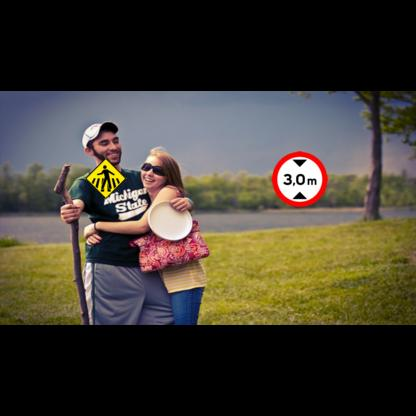A-32b: (85, 158, 126, 199)
R-15: (272, 151, 328, 207)
